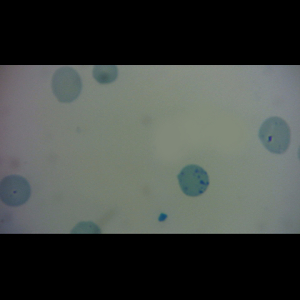aggregate reticulocyte: (175, 163, 211, 198)
erythrocyte: (257, 115, 293, 156), (50, 66, 84, 105), (1, 172, 33, 208)
